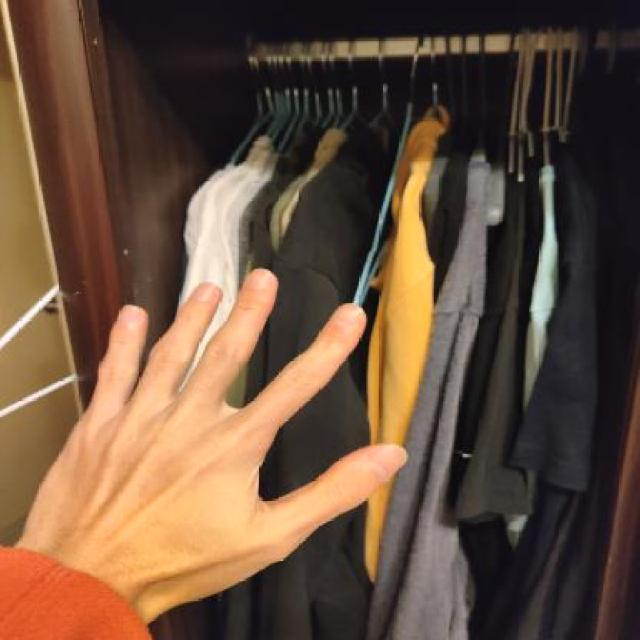no_glove: (2, 260, 416, 614)
